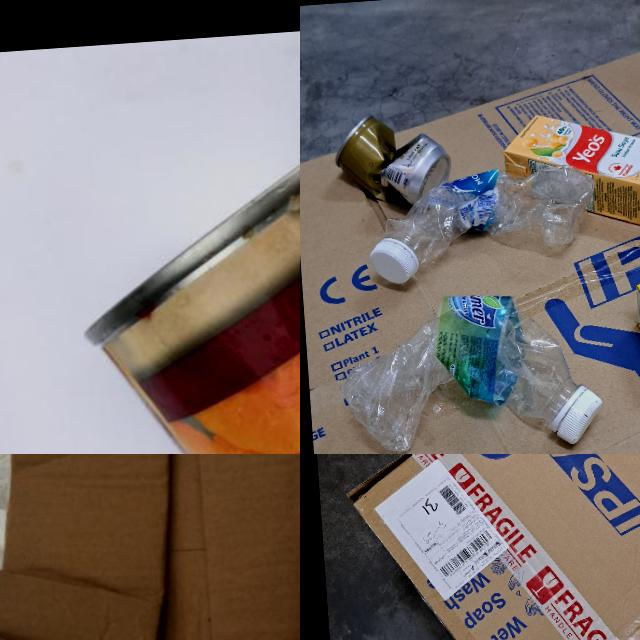caixinha: (500, 103, 640, 239)
garrafa plástica: (336, 285, 581, 454), (382, 162, 599, 267)
lata: (67, 65, 300, 454), (332, 108, 452, 208)
papelão: (300, 29, 640, 454), (331, 454, 640, 640), (0, 454, 300, 640)
tampa plástica: (369, 238, 418, 286)
